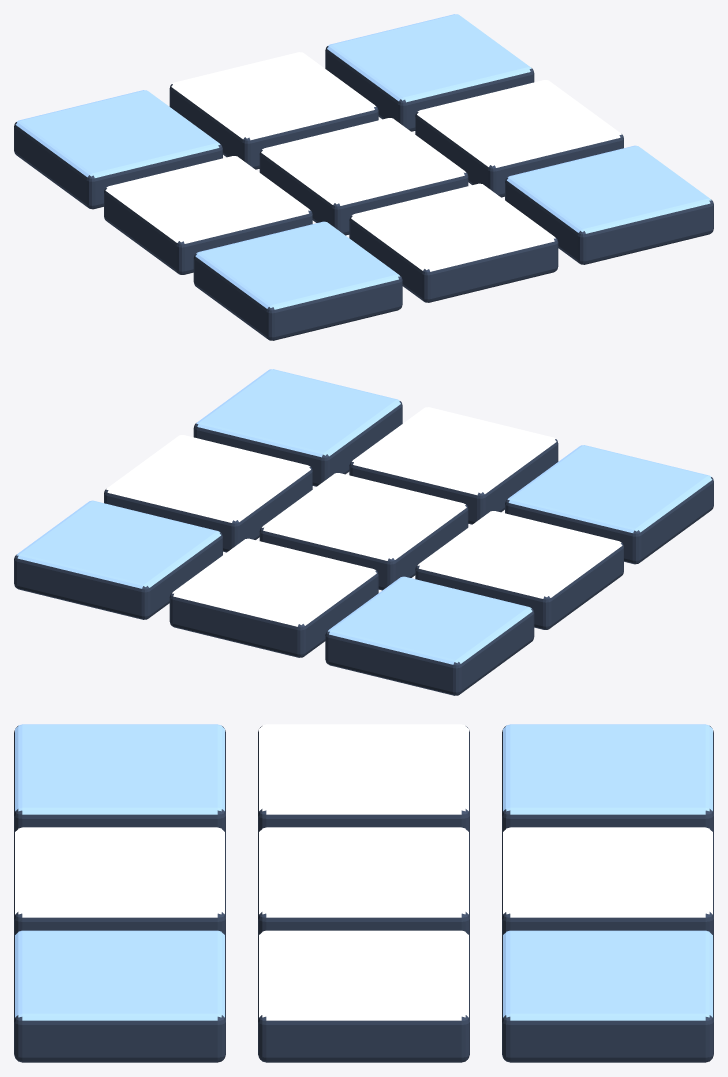
The model's file is isometric_platform.glb.
3 views of the same model, one above another, from view 1: azimuth 30°, elevation 25°; view 2: azimuth 150°, elevation 25°; view 3: azimuth 270°, elevation 25° (orthographic). The views are drawn at different scales.
Parts seen in each view (by area): view 1: tile_01, tile_04, tile_07, tile_03, tile_02, tile_09, tile_05, tile_06, tile_08; view 2: tile_03, tile_06, tile_09, tile_01, tile_02, tile_07, tile_05, tile_04, tile_08; view 3: tile_07, tile_08, tile_09, tile_01, tile_02, tile_03, tile_04, tile_05, tile_06.
Boxes of the visible parts, x1,y1,x2,y2 form: tile_01: (193, 221, 402, 340); tile_04: (349, 183, 558, 302); tile_07: (505, 145, 713, 264); tile_03: (14, 90, 222, 209); tile_02: (104, 156, 312, 274); tile_09: (325, 14, 534, 131); tile_05: (259, 118, 468, 235); tile_06: (169, 52, 378, 169); tile_08: (415, 80, 623, 197); tile_03: (325, 576, 534, 695); tile_06: (169, 538, 378, 657); tile_09: (14, 500, 222, 619); tile_01: (505, 445, 713, 564); tile_02: (415, 511, 623, 629); tile_07: (193, 369, 402, 486); tile_05: (259, 473, 468, 590); tile_04: (349, 407, 558, 524); tile_08: (104, 435, 312, 552); tile_07: (14, 930, 225, 1062); tile_08: (258, 930, 469, 1062); tile_09: (502, 930, 713, 1062); tile_01: (14, 724, 225, 834); tile_02: (258, 724, 469, 834); tile_03: (502, 724, 713, 834); tile_04: (14, 827, 225, 937); tile_05: (258, 827, 469, 937); tile_06: (502, 827, 713, 937).
Size of the model in its own units: 3.3 by 0.25 by 3.3.
